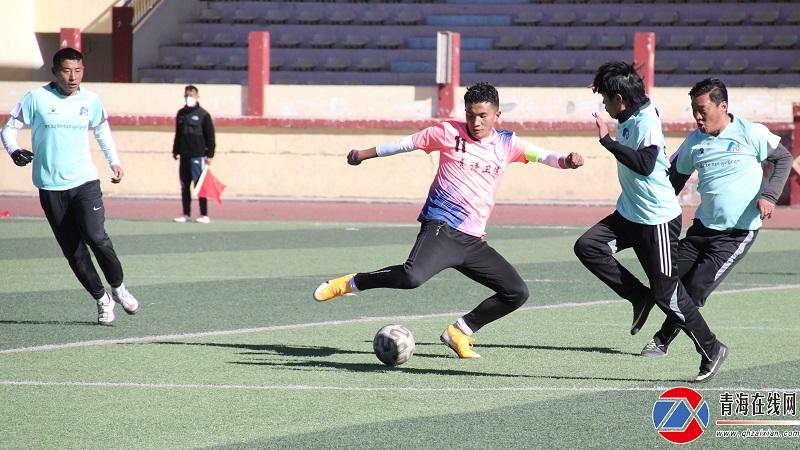football: (374, 325, 416, 368)
